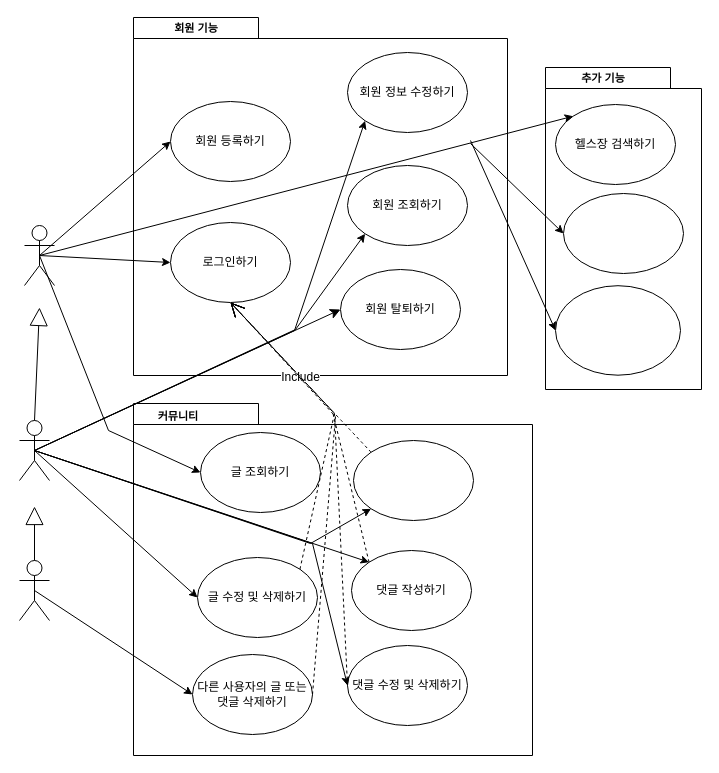
Image size: 719x773. Some labels were removed from this diagram. The centre of each missing label's shape, as x and y in pixels:
"bmi 계산하기" goes at point 617,330.
"글 작성하기" goes at point 413,480.
"랜덤 키워드 생성하기" goes at point 623,233.
"사용자" goes at point 39,255.
"운영자" goes at point 34,590.
"회원" goes at point 34,450.
